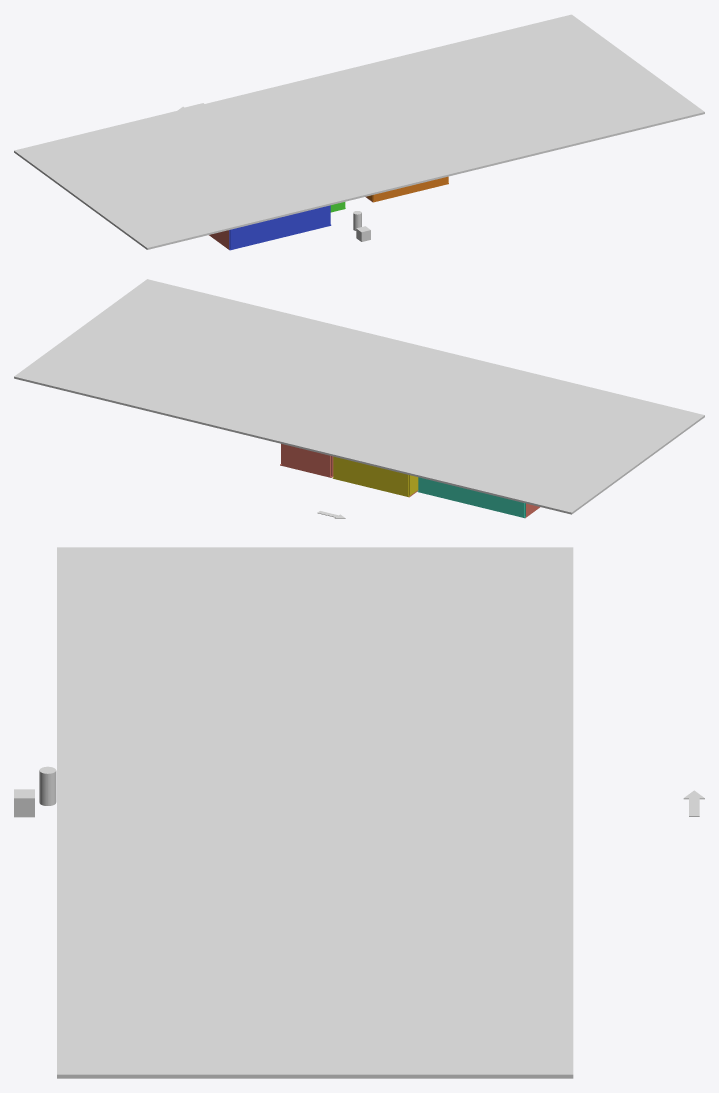
Rendered from Greybox_Floor.fbx.
The picture shows the model from 3 angles, top to bottom: view 1: azimuth 30°, elevation 25°; view 2: azimuth 150°, elevation 25°; view 3: azimuth 270°, elevation 25°; orthographic projection. The views are drawn at different scales.
Visible parts, largest first — view 1: Cellings, Room 6, Room 2; view 2: Cellings, Room 3, Room 5, Room 1; view 3: Cellings.
Boxes of the visible parts, x1,y1,x2,y2 form: Cellings: [14, 14, 704, 249]; Room 6: [209, 205, 331, 250]; Room 2: [365, 176, 448, 202]; Cellings: [14, 279, 704, 514]; Room 3: [332, 456, 418, 497]; Room 5: [417, 477, 540, 518]; Room 1: [280, 444, 333, 477]; Cellings: [57, 547, 573, 1078].
Bounding box in the file's own units: 11912 × 725 × 6595.
